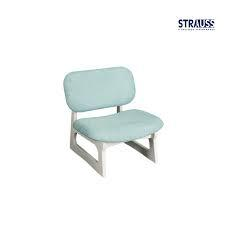chair: (53, 48, 166, 184)
